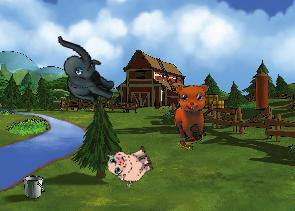bear: (167, 78, 220, 144)
elephant: (42, 35, 125, 109)
pig: (103, 138, 157, 190)
